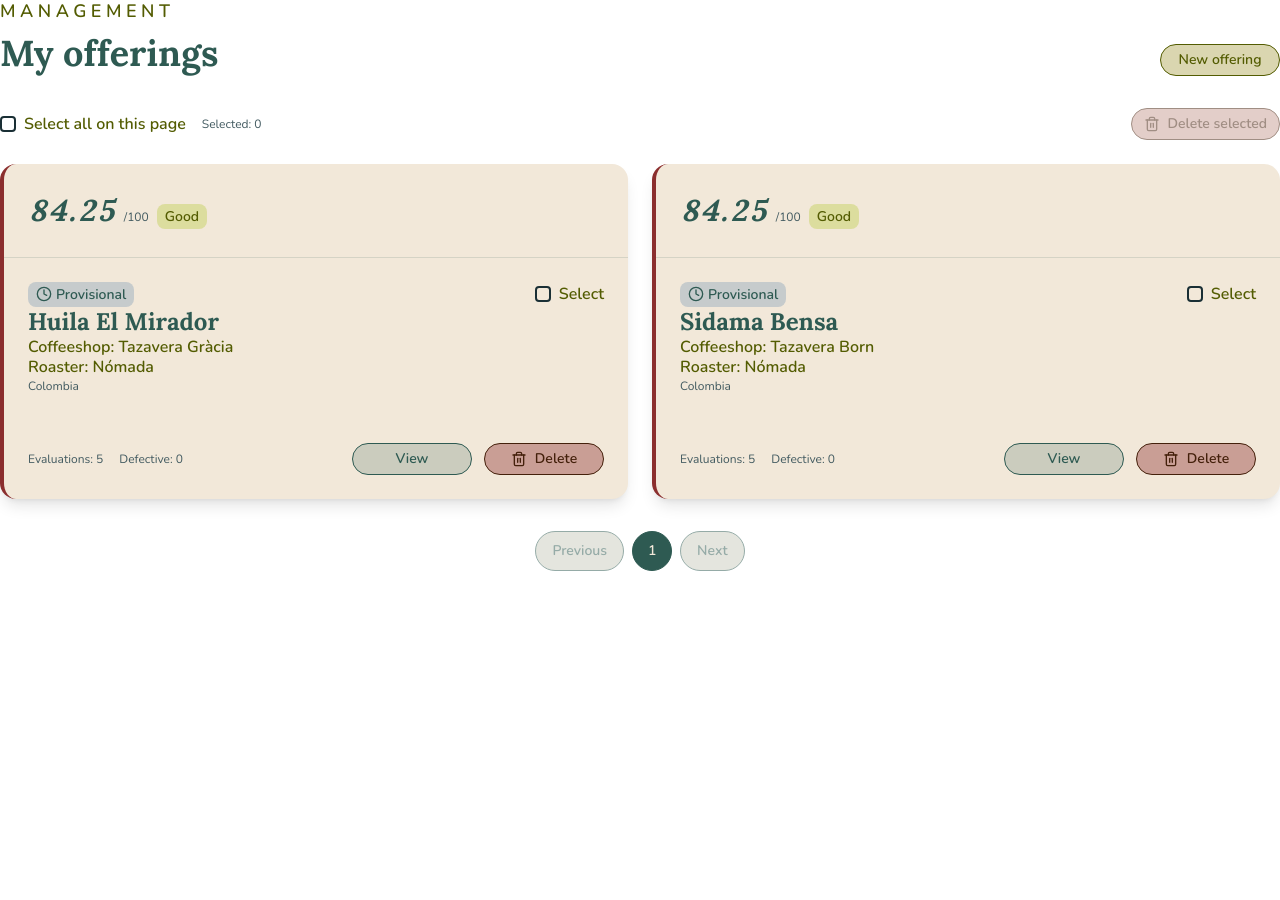
Scenario: ManageOfferingsPanel — deleting (spec 'Deleting offerings') › keeps the confirmation open with its error on a failure
Click the button with aria-label "Delete Huila El Mirador — Tazavera Gràcia": (544, 458) x1=484 y1=442 x2=604 y2=474
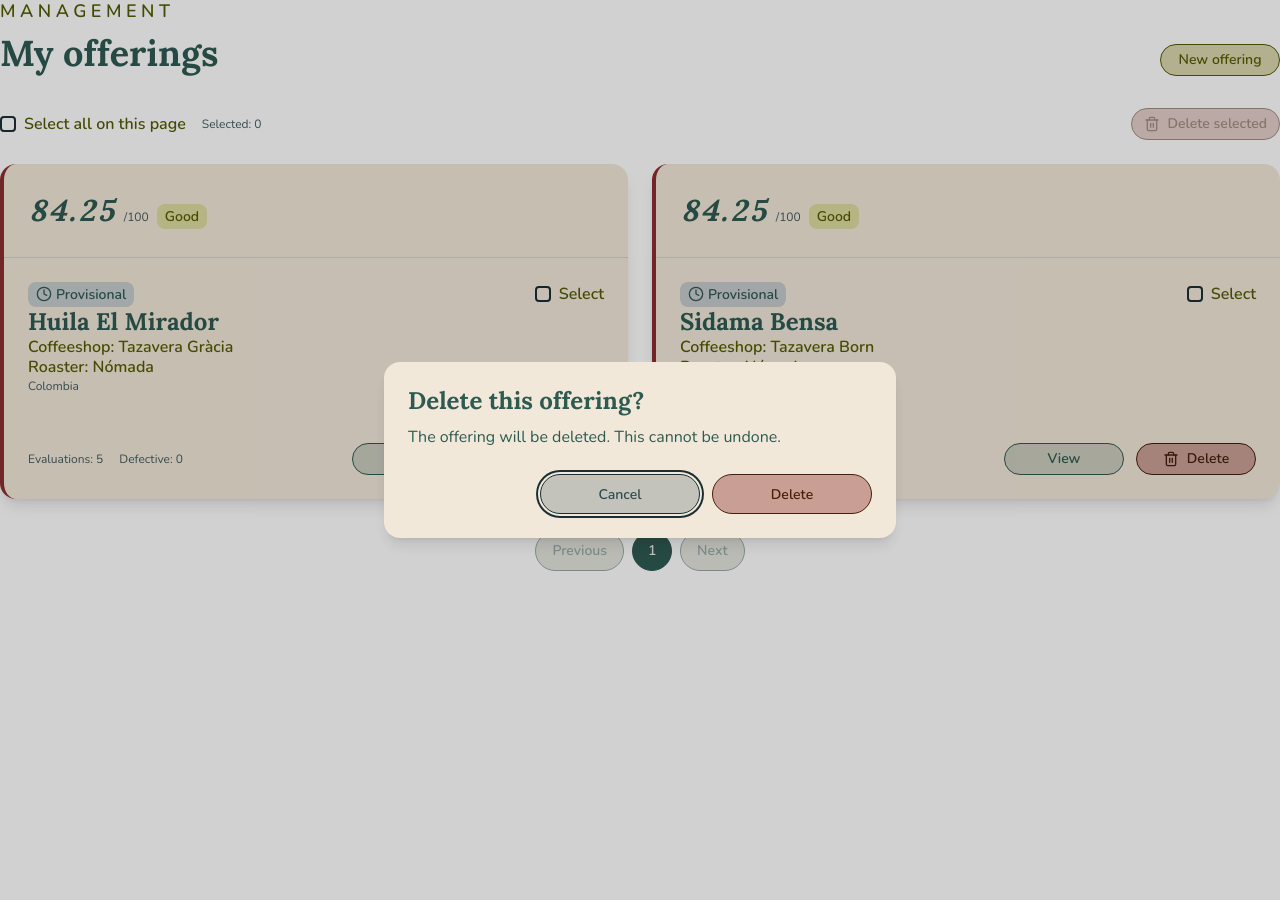
Click the button "Delete": (792, 494) x1=712 y1=474 x2=872 y2=514
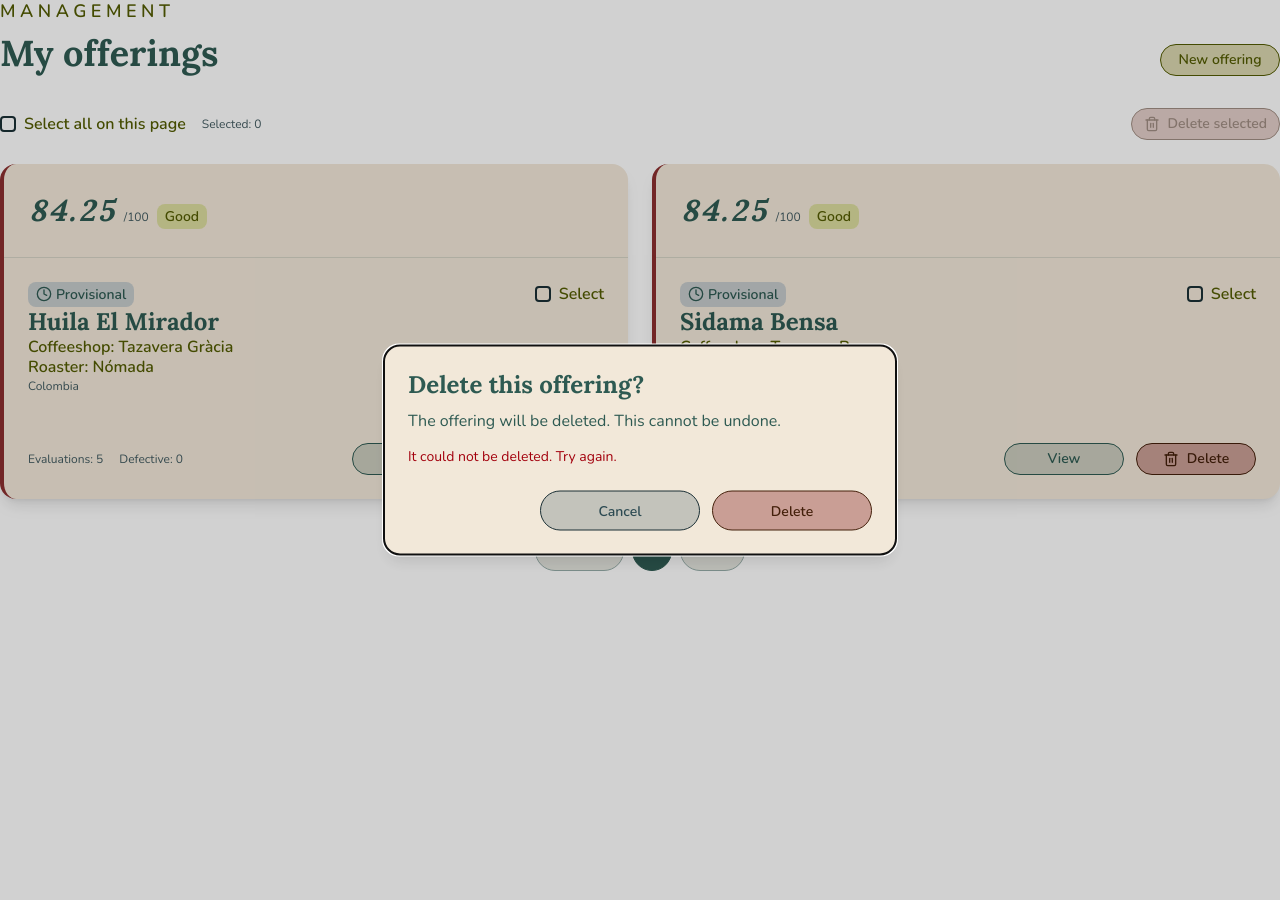
Check: the message reads "It could not be deleted. Try again.", box x1=408 y1=446 x2=617 y2=466
